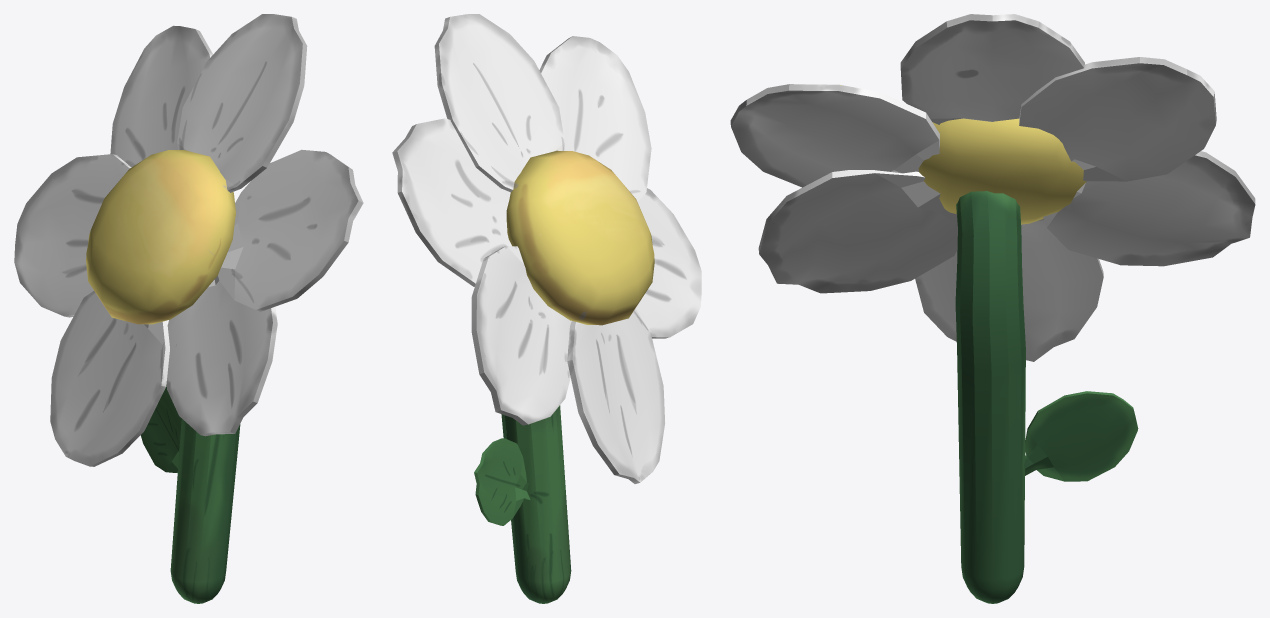
The model's file is Flower2.fbx.
3 views of the same model, side by side, from view 1: azimuth 30°, elevation 25°; view 2: azimuth 150°, elevation 25°; view 3: azimuth 270°, elevation 25° (orthographic). The views are drawn at different scales.
Visible parts, largest first — view 1: Plant2_petal4_polySurface1; view 2: Plant2_petal4_polySurface1; view 3: Plant2_petal4_polySurface1.
Boxes of the visible parts, x1,y1,x2,y2 form: Plant2_petal4_polySurface1: [14, 14, 363, 603]; Plant2_petal4_polySurface1: [392, 14, 701, 603]; Plant2_petal4_polySurface1: [730, 14, 1255, 603].
Bounding box in the file's own units: 0.3143 × 0.784 × 0.5847.
